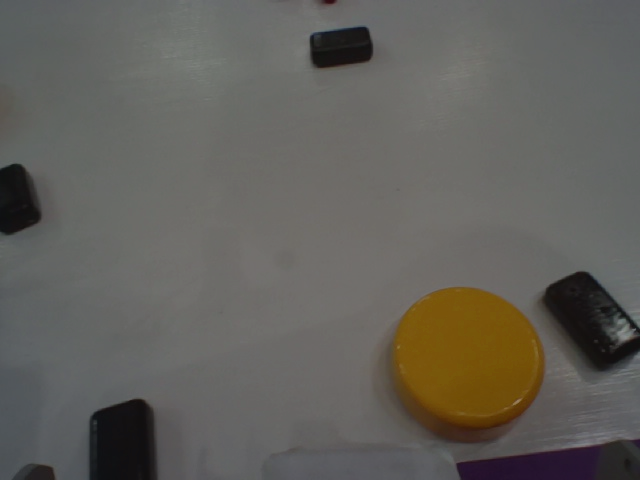black: (516, 259, 640, 371), (73, 396, 173, 480), (1, 156, 58, 246), (295, 26, 388, 69)
yellow: (380, 273, 554, 445)
